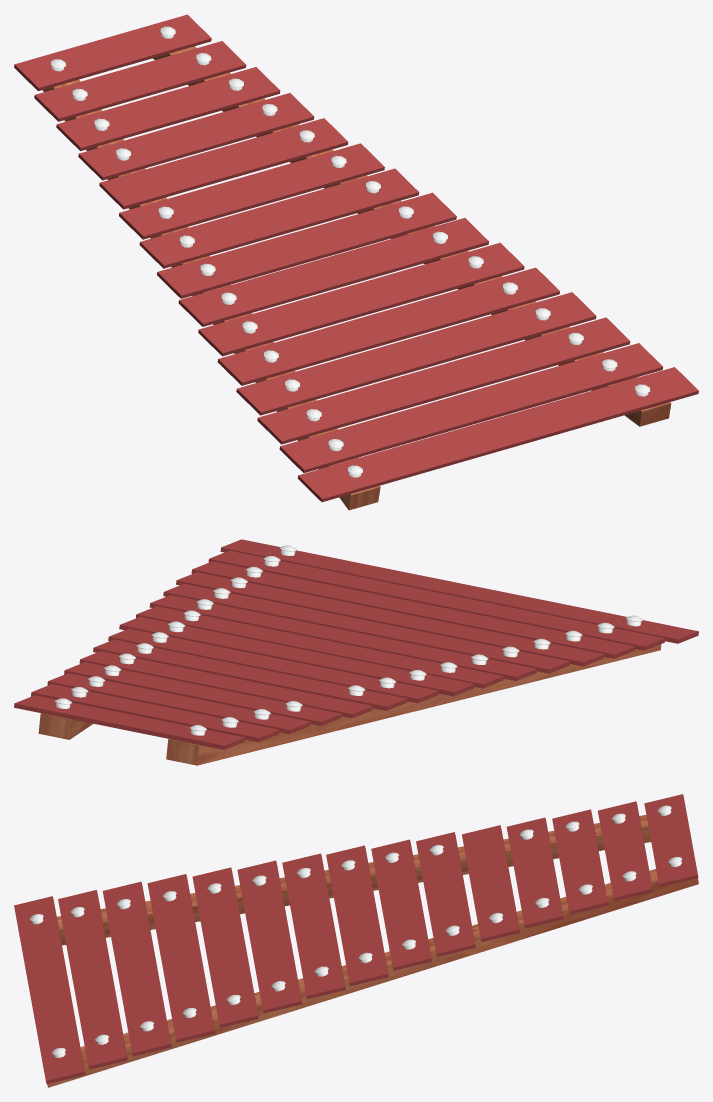
The model's file is XylofonRamp.fbx.
3 renders of one model, top to bottom at view 1: azimuth 30°, elevation 25°; view 2: azimuth 150°, elevation 25°; view 3: azimuth 270°, elevation 25°, orthographic. The views are drawn at different scales.
Visible parts, largest first — view 1: Xylofono; view 2: Xylofono; view 3: Xylofono.
Boxes of the visible parts, bbox=[...] form: Xylofono: bbox=[14, 14, 698, 510]; Xylofono: bbox=[14, 539, 698, 765]; Xylofono: bbox=[14, 794, 698, 1087].
Size of the model in its own units: 22.67 by 9.62 by 37.2.
